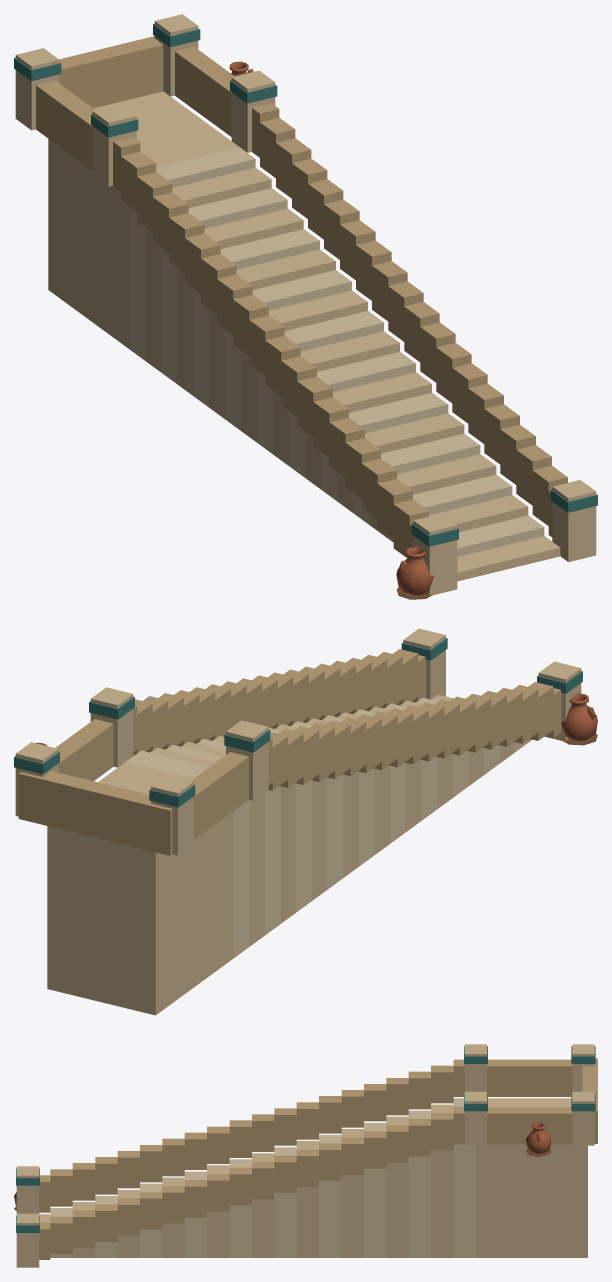
The model's file is exterior-stair.glb.
3 views of the same model, one above another, from view 1: azimuth 30°, elevation 25°; view 2: azimuth 150°, elevation 25°; view 3: azimuth 270°, elevation 25° (orthographic). The views are drawn at different scales.
Visible parts, largest first — view 1: exterior-stair-surface, courtyard-vessel-surface; view 2: exterior-stair-surface, courtyard-vessel-surface; view 3: exterior-stair-surface, courtyard-vessel-surface.
Boxes of the visible parts, x1,y1,x2,y2 form: exterior-stair-surface: (14,14,597,595); courtyard-vessel-surface: (396,546,434,599); exterior-stair-surface: (14,628,582,1015); courtyard-vessel-surface: (561,693,597,745); exterior-stair-surface: (16,1044,597,1267); courtyard-vessel-surface: (525,1122,551,1156).
Size of the model in its own units: 4 by 4.1 by 13.04.
